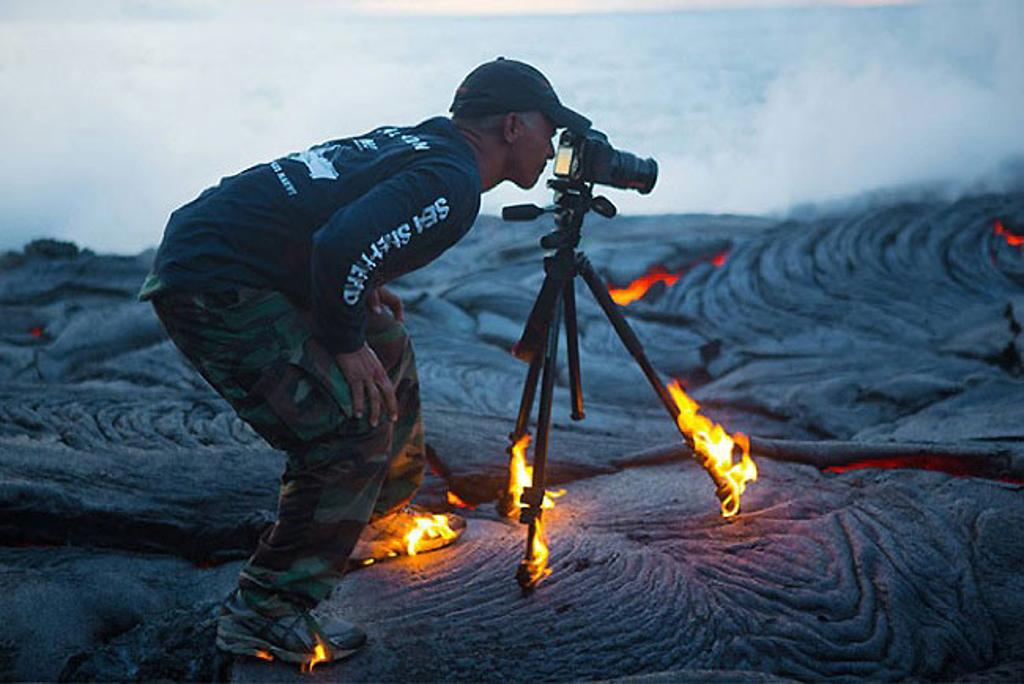face: (510, 94, 562, 188)
